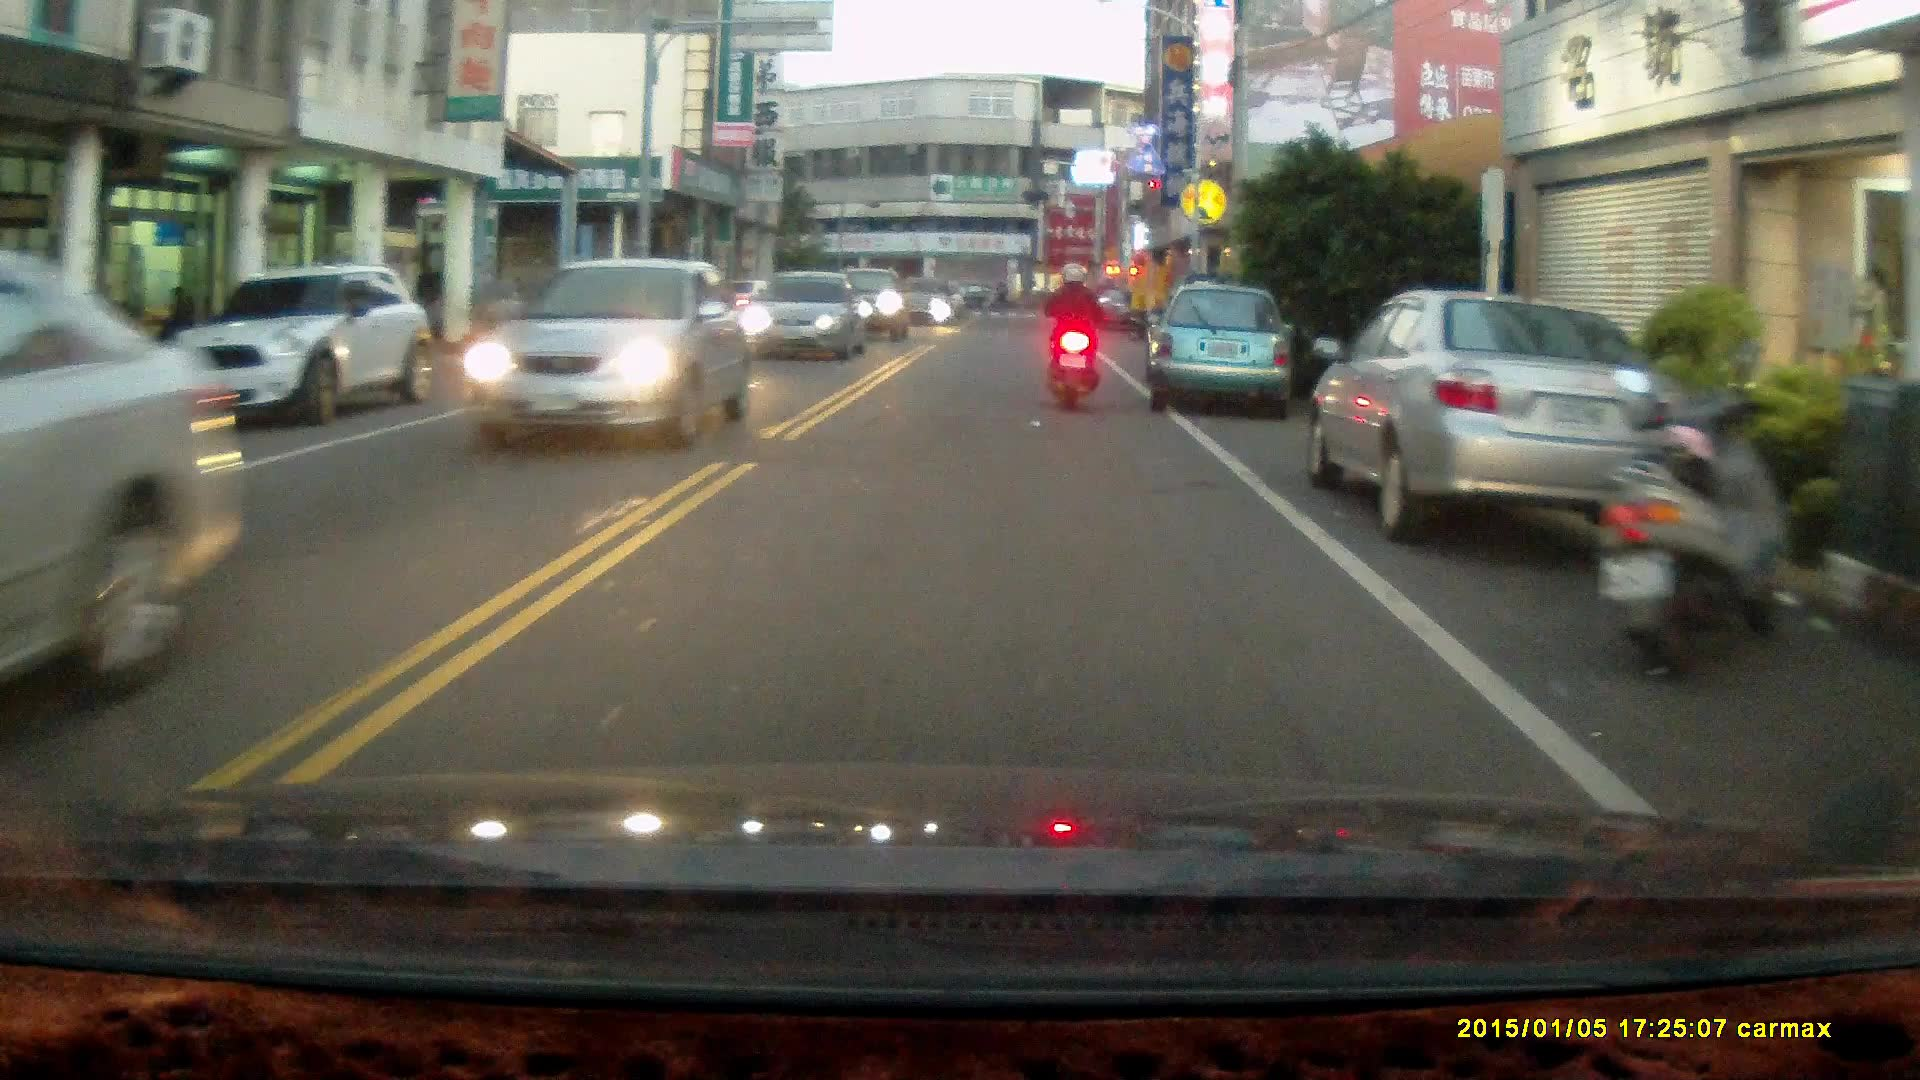pedestrian: (162, 282, 199, 354)
rider: (1038, 258, 1108, 414)
vehicle: (2, 245, 249, 708), (1304, 293, 1727, 545), (459, 263, 761, 449), (153, 263, 443, 432), (1148, 280, 1299, 423), (738, 271, 865, 367)
